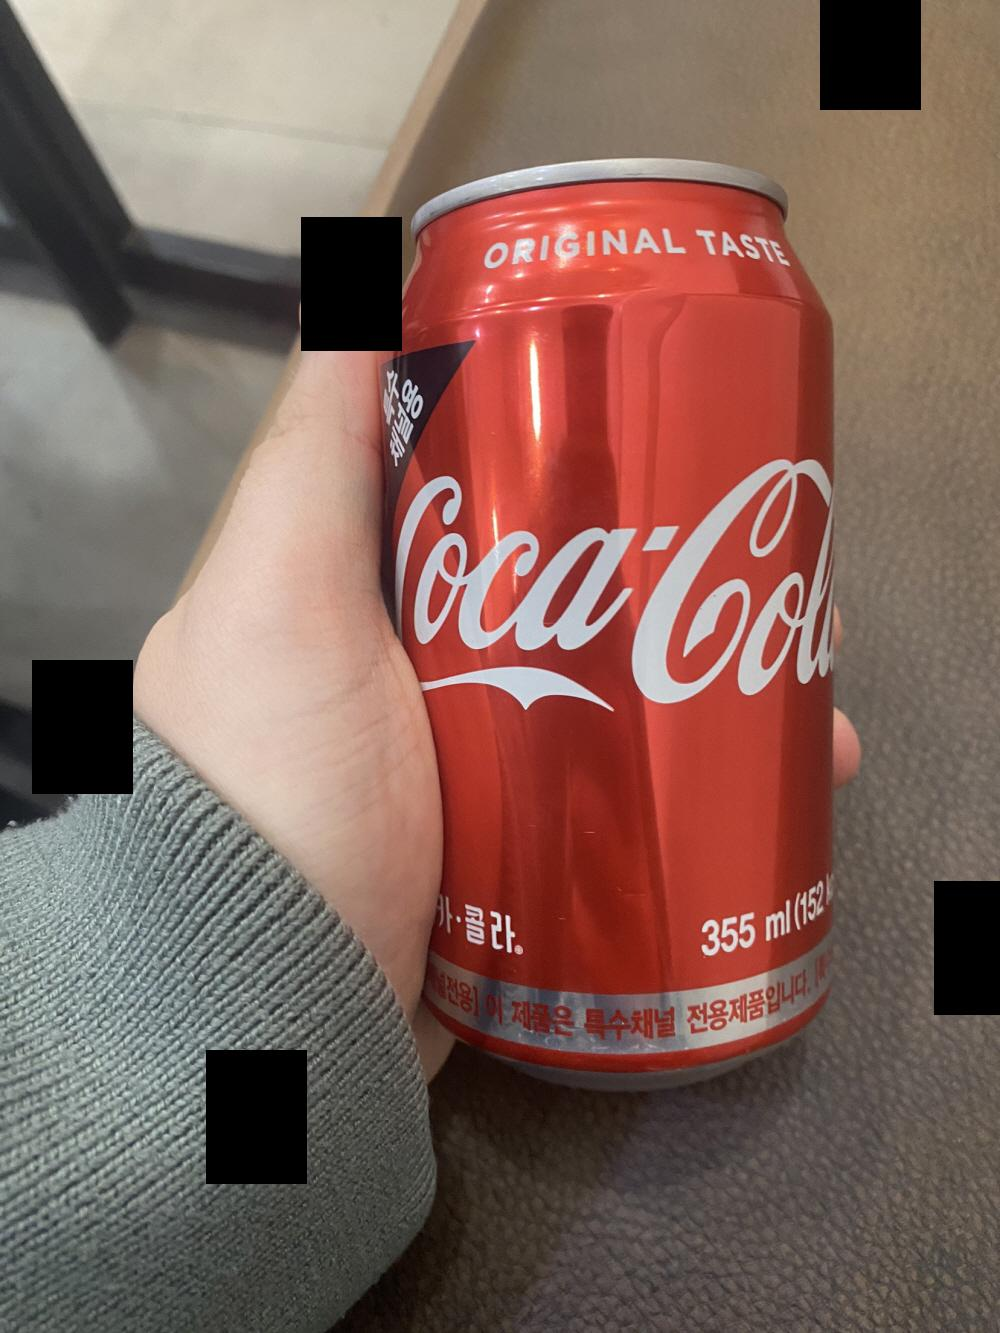cocacola: (386, 154, 848, 1085)
